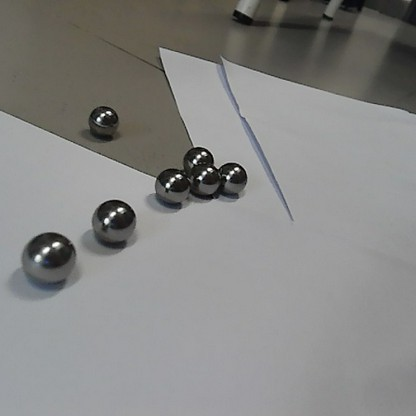ironball: (18, 227, 77, 289), (92, 199, 134, 244), (153, 166, 192, 204), (88, 103, 119, 137), (217, 160, 248, 194), (187, 165, 218, 198), (182, 145, 216, 168)
